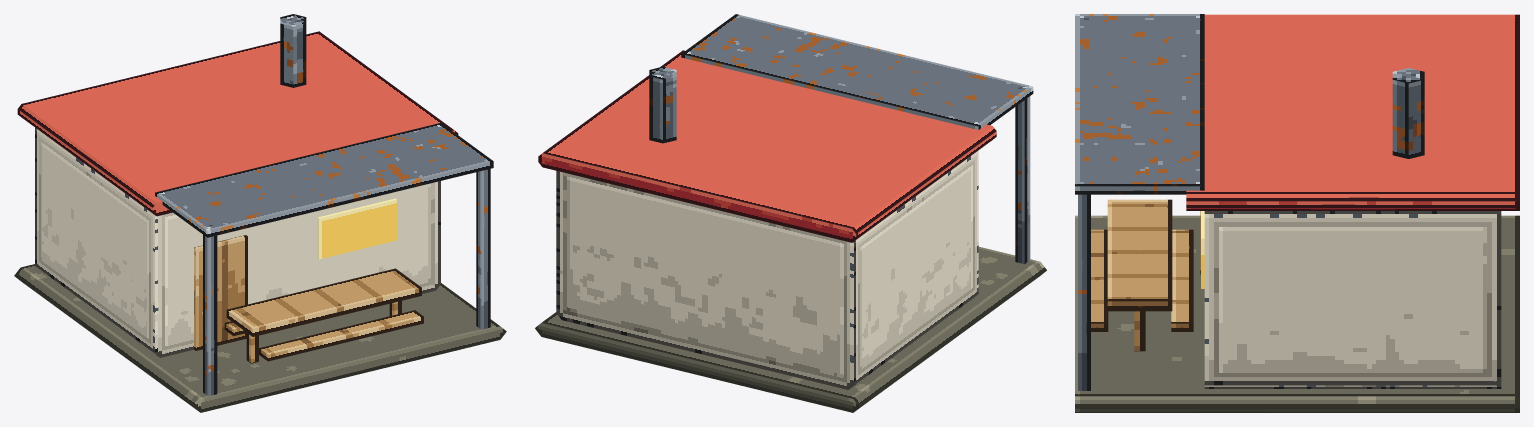
The model's file is messhall.glb.
3 renders of one model, left to right at view 1: azimuth 30°, elevation 25°; view 2: azimuth 150°, elevation 25°; view 3: azimuth 270°, elevation 25°, orthographic. The views are drawn at different scales.
Visible parts, largest first — view 1: roof, hall, slab, canopy, table, door, hatch, benchB, postL, postR, flue; view 2: hall, roof, canopy, slab, postL, flue; view 3: roof, hall, slab, canopy, table, flue, postR, benchA, benchB, legT2.
Part boxes in pixels (bbox=[...]): roof: bbox=[17, 31, 458, 216]; hall: bbox=[35, 127, 440, 357]; slab: bbox=[14, 264, 506, 412]; canopy: bbox=[155, 123, 493, 237]; table: bbox=[226, 268, 421, 336]; door: bbox=[194, 235, 247, 350]; hatch: bbox=[317, 198, 396, 259]; benchB: bbox=[259, 310, 423, 361]; postL: bbox=[203, 235, 217, 396]; postR: bbox=[476, 169, 490, 329]; flue: bbox=[280, 14, 306, 87]; hall: bbox=[556, 150, 978, 389]; roof: bbox=[538, 50, 996, 242]; canopy: bbox=[681, 14, 1033, 129]; slab: bbox=[535, 246, 1046, 412]; postL: bbox=[1015, 96, 1030, 264]; flue: bbox=[649, 66, 676, 143]; roof: bbox=[1186, 14, 1519, 210]; hall: bbox=[1204, 211, 1501, 388]; slab: bbox=[1075, 215, 1519, 412]; canopy: bbox=[1075, 14, 1204, 194]; table: bbox=[1107, 199, 1172, 311]; flue: bbox=[1392, 68, 1424, 158]; postR: bbox=[1078, 194, 1090, 390]; benchA: bbox=[1171, 229, 1193, 331]; benchB: bbox=[1091, 229, 1108, 331]; legT2: bbox=[1134, 311, 1145, 351].
Size of the model in its own units: 48 by 35 by 48.
1 material, 1 textured.
